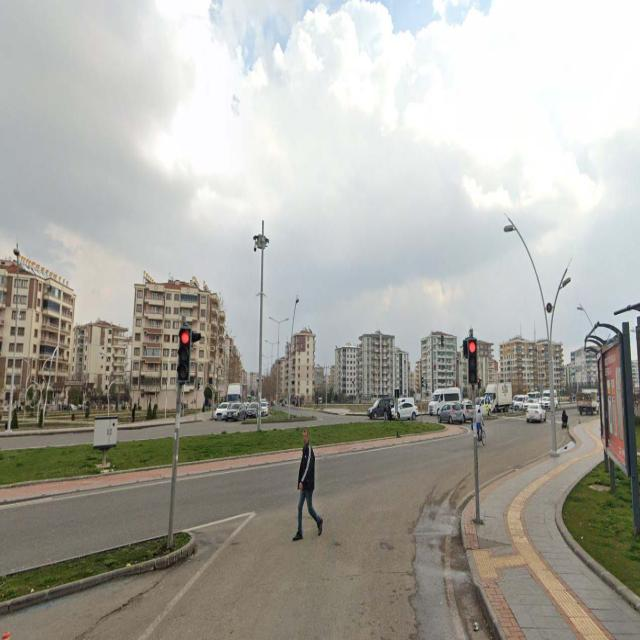kirmizi: (180, 329, 190, 383), (468, 338, 478, 386)
